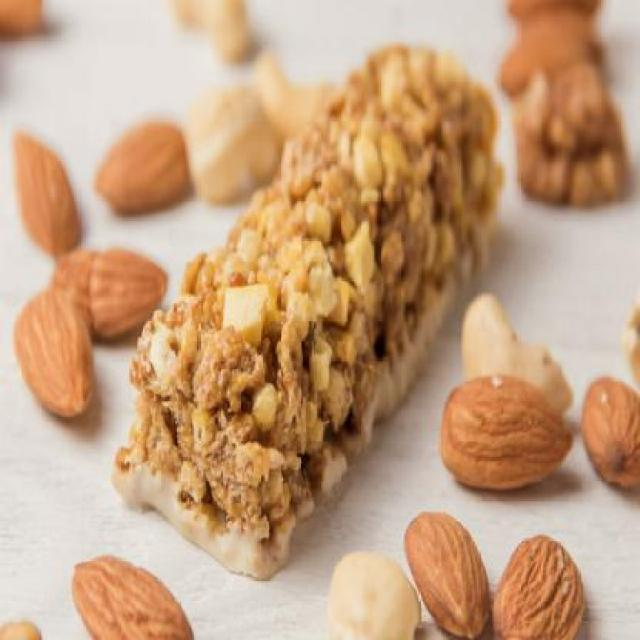Cereal bar packaged: (126, 34, 506, 566)
Frutta secca: (441, 378, 574, 493), (323, 546, 422, 640), (580, 376, 640, 490)
